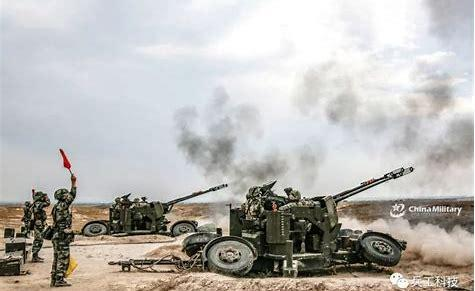MIL_SPG: (184, 167, 414, 275), (82, 184, 227, 236)
